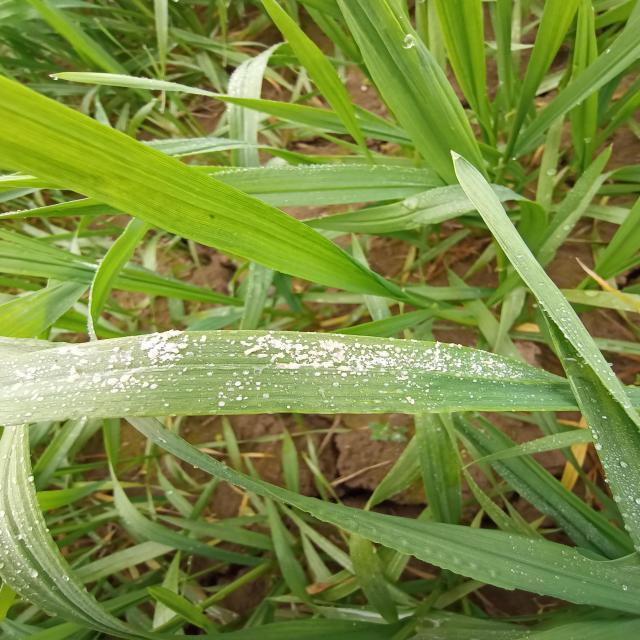Powdery Mildew: (21, 337, 550, 433)
